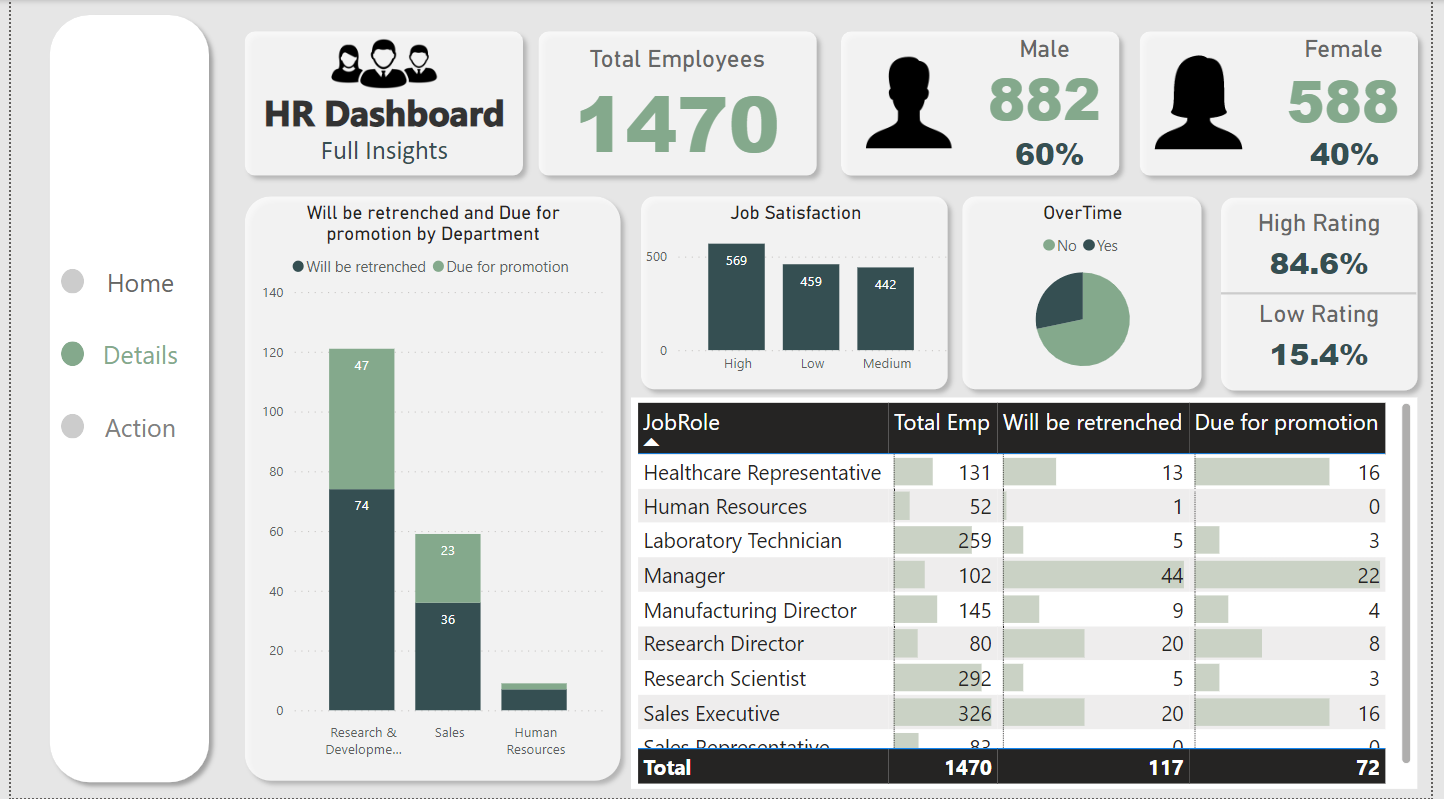

What the dashboard file says about the page in this screenshot:
{"tool":"powerbi","page":{"name":"Details","canvas":[1280,720],"ordinal":1},"visuals":[{"type":"shape","box":[26.1,4.1,161.9,709.4],"z":0},{"type":"shape","box":[201.7,19.6,268.9,147.9],"z":1000},{"type":"shape","box":[467,19.6,268.9,147.9],"z":2000},{"type":"shape","box":[1008.6,19.2,269,148.2],"z":3000},{"type":"shape","box":[739.6,19.2,269,148.2],"z":4000},{"type":"textbox","box":[212.7,74.6,246.9,106.3],"z":5000},{"type":"textbox","box":[212.7,114.9,246.9,52.6],"z":6000},{"type":"card","title":"Total Employees","fields":{"Values":["All Measures.Total Emp"]},"box":[486.5,40.3,227.4,106.3],"z":7000},{"type":"card","title":"Male","fields":{"Values":["All Measures.Male"]},"box":[863,31.8,136.9,85.6],"z":8000},{"type":"card","title":"Female","fields":{"Values":["All Measures.Female"]},"box":[1136.8,31.8,128.4,90.5],"z":9000},{"type":"card","title":"Male","fields":{"Values":["All Measures.% male"]},"box":[871.6,114.9,128.4,48.9],"z":10000},{"type":"card","title":"Male","fields":{"Values":["All Measures.% female"]},"box":[1138.1,114.9,128.4,48.9],"z":11000},{"type":"shape","box":[201.7,167.5,356.9,545.2],"z":12000},{"type":"columnChart","fields":{"Y":["All Measures.Will be retrenched","All Measures.Due for promotion"],"Category":["HR Data.Department"]},"box":[221.3,180.9,319,509.7],"z":13000},{"type":"shape","box":[558.6,167.5,294.6,191.9],"z":14000},{"type":"shape","box":[848.4,167.5,233.5,191.9],"z":15000},{"type":"shape","box":[1081.8,168.7,195.6,191.9],"z":16000},{"type":"shape","box":[1091.2,257.5,176.2,12.5],"z":17000},{"type":"columnChart","title":"Job Satisfaction","fields":{"Category":["HR Data.Job Satisfaction"],"Y":["All Measures.Total Emp"]},"box":[567.1,181.4,281.4,164.3],"z":18000},{"type":"pieChart","title":"OverTime","fields":{"Category":["HR Data.OverTime"],"Y":["All Measures.Total Emp"]},"box":[860,181.4,212.9,164.3],"z":19000},{"type":"tableEx","fields":{"Values":["HR Data.JobRole","All Measures.Total Emp","All Measures.Will be retrenched","All Measures.Due for promotion"]},"box":[558.6,358.6,708.6,352.9],"z":20000},{"type":"card","title":"High Rating","fields":{"Values":["All Measures.% High Rated"]},"box":[1115.7,188.6,127.1,75.7],"z":21000},{"type":"card","title":"Low Rating","fields":{"Values":["All Measures.% Low Rated"]},"box":[1115.7,270,127.1,75.7],"z":22000},{"type":"shape","box":[45.2,242,20.8,22],"z":23000},{"type":"shape","box":[45.2,372.8,20.8,22],"z":24000},{"type":"shape","box":[45.2,308,20.8,22],"z":25000},{"type":"actionButton","box":[66,298.3,100.2,40.3],"z":26000},{"type":"actionButton","box":[66,364.3,100.2,40.3],"z":27000},{"type":"actionButton","box":[66,233.5,100.2,40.3],"z":28000},{"type":"image","box":[209,0,253,117.4],"z":29000},{"type":"image","box":[751.4,32.9,111.4,120],"z":30000},{"type":"image","box":[1011.4,35.7,112.9,114.3],"z":31000}]}

Visuals, with their boxes in screenshot pixels (x1, y1, x2, y2), scaled from the page's 1280x720 canvas onto the 1444x799 screenshot:
shape: 29:5:212:792
shape: 228:22:531:186
shape: 527:22:830:186
shape: 1138:21:1441:186
shape: 834:21:1138:186
textbox: 240:83:518:201
textbox: 240:128:518:186
"Total Employees" card: 549:45:805:163
"Male" card: 974:35:1128:130
"Female" card: 1282:35:1427:136
"Male" card: 983:128:1128:182
"Male" card: 1284:128:1429:182
shape: 228:186:630:791
columnChart - All Measures.Will be retrenched x All Measures.Due for promotion: 250:201:610:766
shape: 630:186:963:399
shape: 957:186:1221:399
shape: 1220:187:1441:400
shape: 1231:286:1430:300
"Job Satisfaction" columnChart: 640:201:957:384
"OverTime" pieChart: 970:201:1210:384
tableEx - HR Data.JobRole x All Measures.Total Emp: 630:398:1430:790
"High Rating" card: 1259:209:1402:293
"Low Rating" card: 1259:300:1402:384
shape: 51:269:74:293
shape: 51:414:74:438
shape: 51:342:74:366
actionButton: 74:331:187:376
actionButton: 74:404:187:449
actionButton: 74:259:187:304
image: 236:0:521:130
image: 848:37:973:170
image: 1141:40:1268:166
